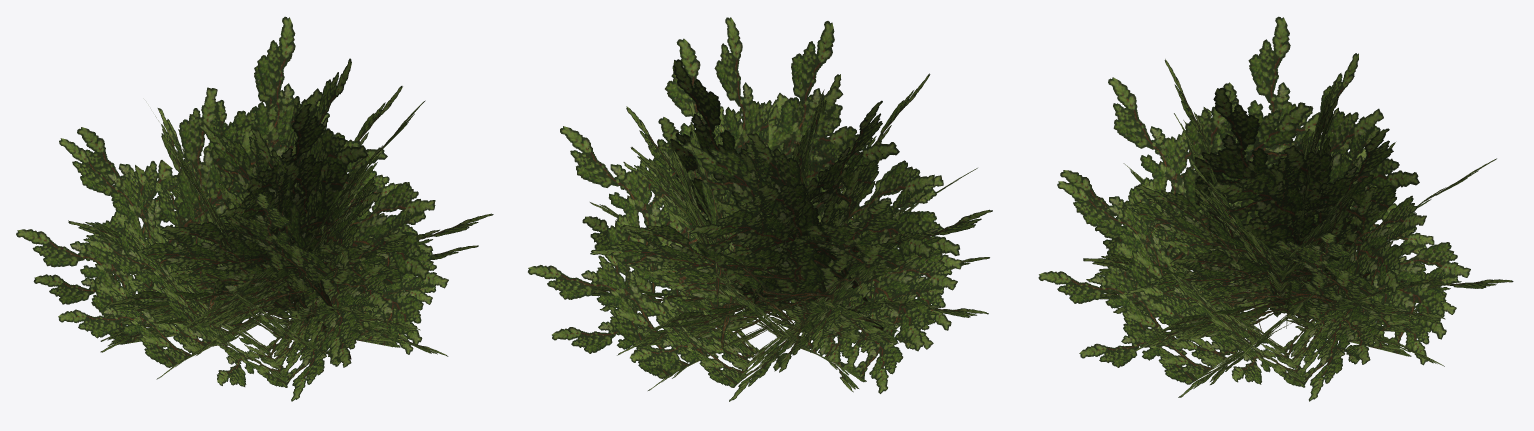
Rendered from SM_TI_Beach_Cabbage_1.fbx.
3 views of the same model, side by side, from view 1: azimuth 30°, elevation 25°; view 2: azimuth 150°, elevation 25°; view 3: azimuth 270°, elevation 25° (orthographic). The views are drawn at different scales.
Parts seen in each view (by area): view 1: SM_TI_Beach_Cabbage_1; view 2: SM_TI_Beach_Cabbage_1; view 3: SM_TI_Beach_Cabbage_1.
Boxes of the visible parts, left/top/right/bottom form: SM_TI_Beach_Cabbage_1: left=16, top=16, right=493, bottom=401; SM_TI_Beach_Cabbage_1: left=528, top=17, right=992, bottom=401; SM_TI_Beach_Cabbage_1: left=1038, top=16, right=1513, bottom=401.
Bounding box in the file's own units: 3.64 × 3.67 × 2.55.
